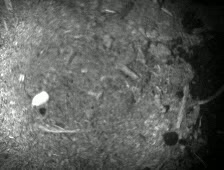corn: (29, 89, 50, 109)
